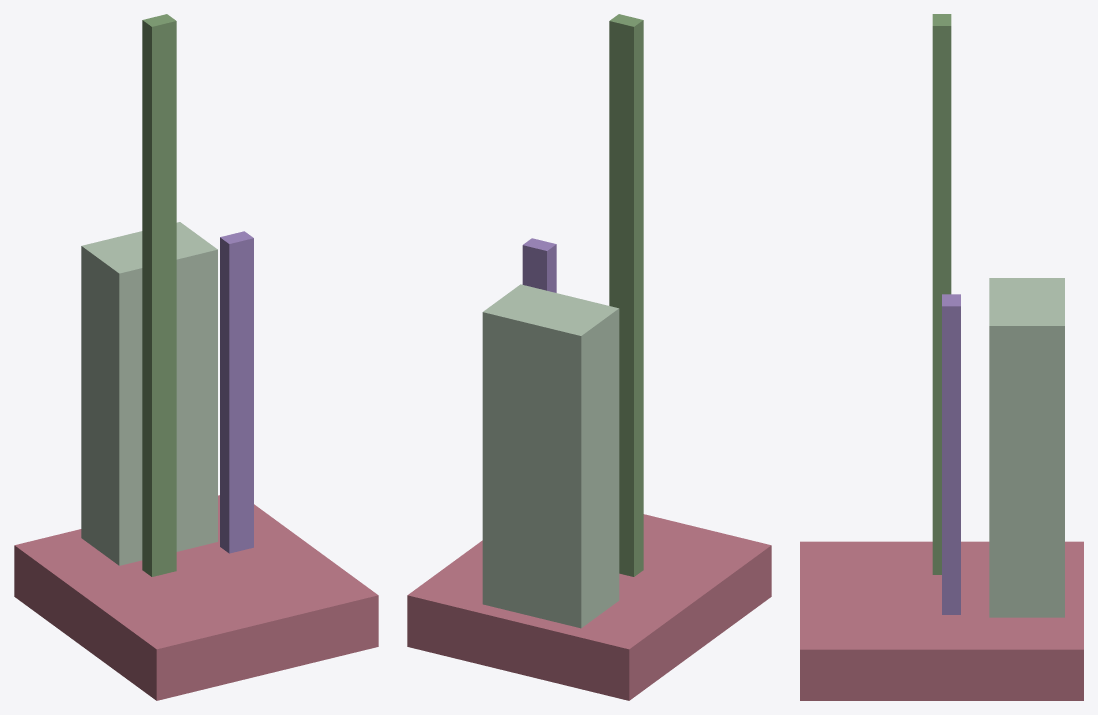
The model's file is 199511_pred.glb.
3 renders of one model, left to right at view 1: azimuth 30°, elevation 25°; view 2: azimuth 150°, elevation 25°; view 3: azimuth 270°, elevation 25°, orthographic.
Visible parts, largest first — view 1: world; view 2: world; view 3: world.
Part boxes in pixels (box(x1,y1,x2,y2)): world: box(14, 14, 378, 700); world: box(407, 14, 771, 700); world: box(800, 14, 1083, 700).
Size of the model in its own units: 2.7 by 7.1 by 3.
